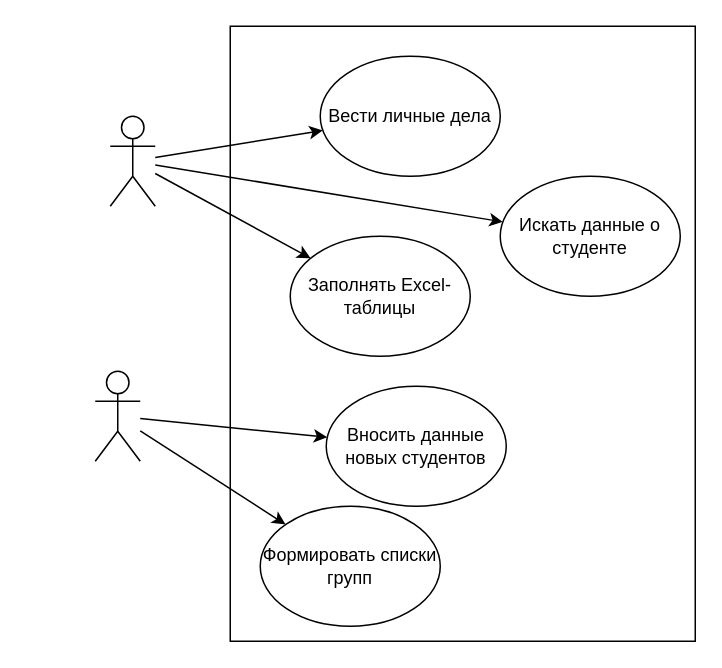
The diagram is 722 pixels wide and 668 high, and some of its shapes have lost their labels. Each missing label, with the box of its shape:
Приёмная комиссия: (94, 370, 140, 461)
Сотрудник учебной части: (109, 115, 155, 206)
